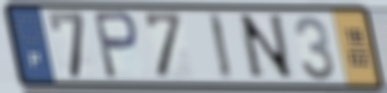3: (293, 14, 336, 82)
7: (45, 9, 89, 81), (144, 11, 186, 82)
I: (205, 11, 236, 83)
N: (236, 12, 298, 82)
P: (90, 9, 141, 82)
